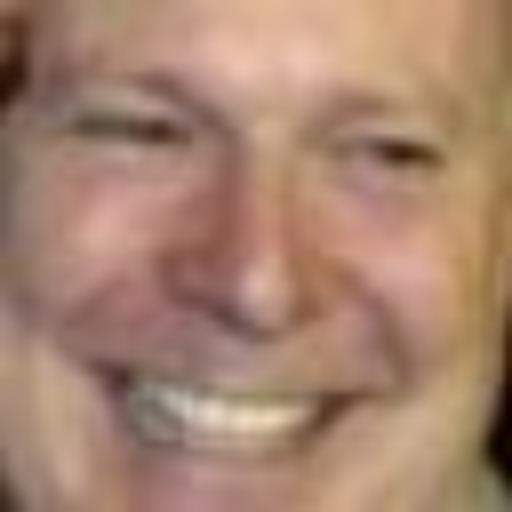left_lip_corner: (304, 378, 374, 433)
right_lip_corner: (94, 340, 135, 410)
